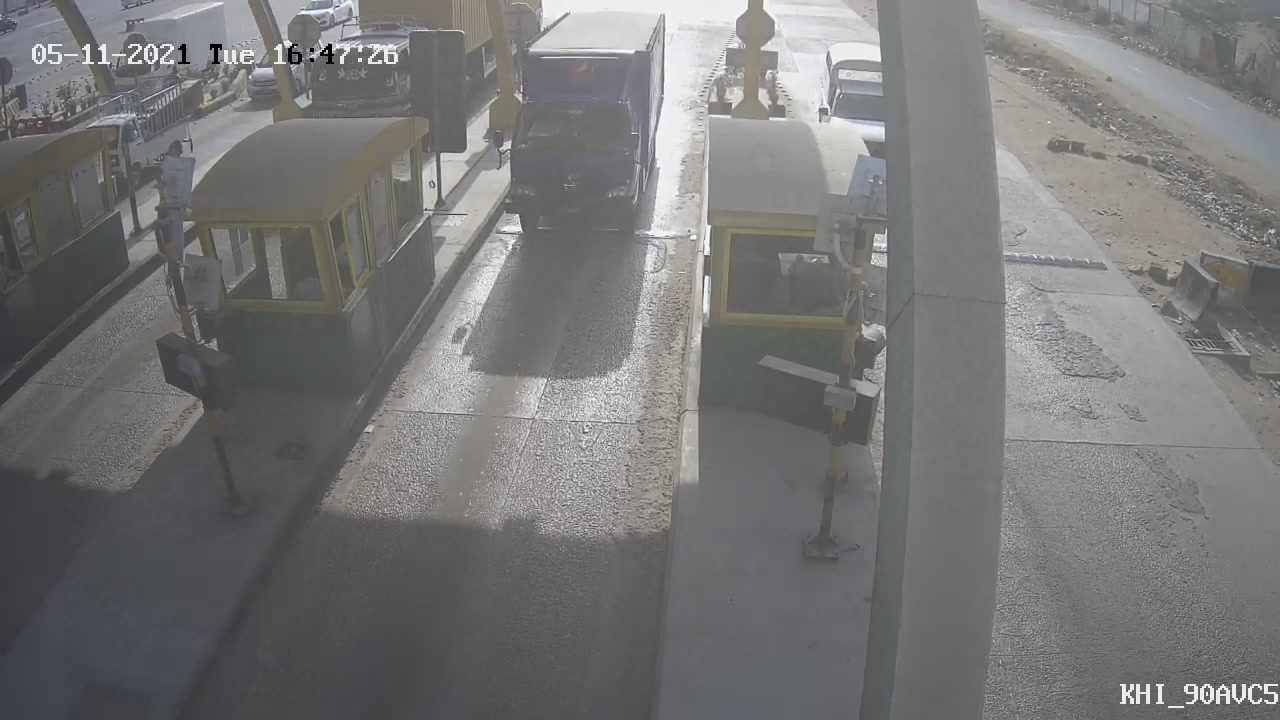F5: (485, 7, 677, 256)
